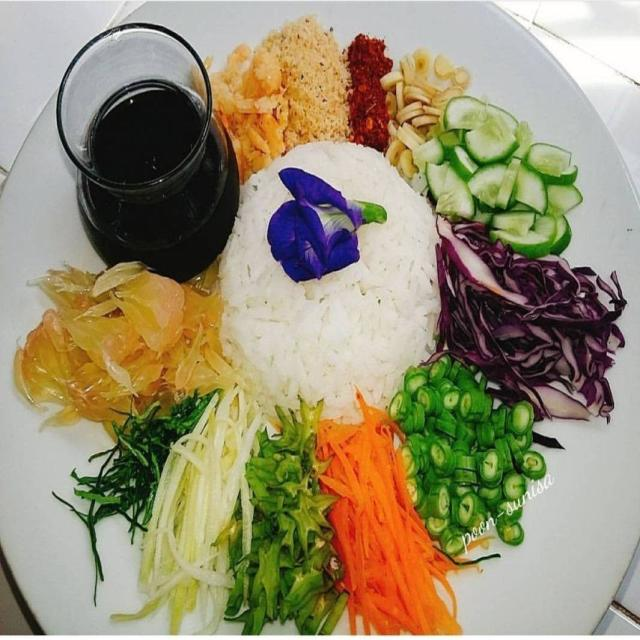carb: (225, 160, 440, 419)
rice salad: (46, 47, 594, 625)
vegetable: (170, 398, 412, 635), (432, 99, 580, 250), (232, 417, 334, 624)
